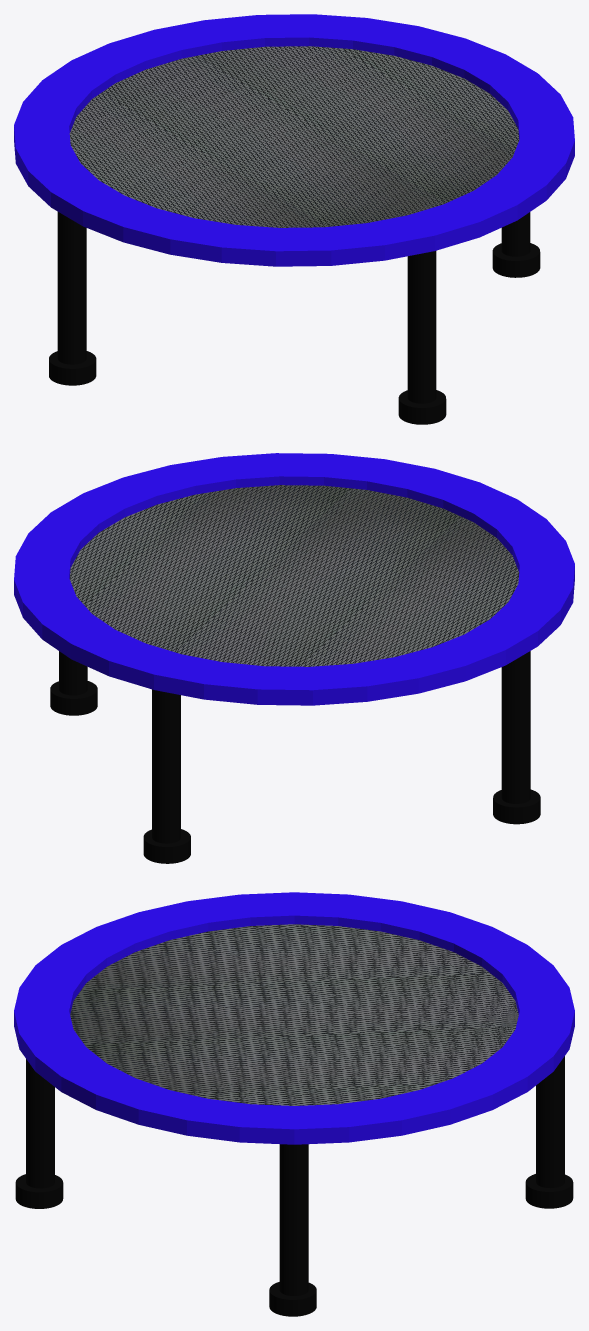
File: trampoline.fbx
The picture shows the model from 3 angles, top to bottom: view 1: azimuth 30°, elevation 25°; view 2: azimuth 150°, elevation 25°; view 3: azimuth 270°, elevation 25°; orthographic projection.
Parts seen in each view (by area): view 1: Cylinder.009, Cylinder, Cylinder.003, Cylinder.005, Cylinder.002, Cylinder.004, Cylinder.006, Cylinder.001; view 2: Cylinder.009, Cylinder, Cylinder.007, Cylinder.005, Cylinder.002, Cylinder.006, Cylinder.008, Cylinder.001; view 3: Cylinder.009, Cylinder, Cylinder.001, Cylinder.007, Cylinder.003, Cylinder.008, Cylinder.004, Cylinder.002.
Part boxes in pixels (x1,y1,x2,y2): Cylinder.009: (69,46,519,227); Cylinder: (14,14,574,266); Cylinder.003: (407,251,436,403); Cylinder.005: (57,212,86,364); Cylinder.002: (492,243,540,277); Cylinder.004: (398,390,446,424); Cylinder.006: (49,351,96,385); Cylinder.001: (501,212,530,256); Cylinder.009: (69,485,519,666); Cylinder: (14,453,574,705); Cylinder.007: (152,689,180,843); Cylinder.005: (501,651,530,803); Cylinder.002: (50,681,97,715); Cylinder.006: (493,789,540,824); Cylinder.008: (143,829,190,863); Cylinder.001: (59,651,87,695); Cylinder.009: (70,924,518,1105); Cylinder: (14,892,574,1144); Cylinder.001: (279,1144,308,1295); Cylinder.007: (536,1056,564,1187); Cylinder.003: (26,1059,54,1188); Cylinder.008: (525,1174,573,1208); Cylinder.004: (15,1174,63,1208); Cylinder.002: (269,1282,316,1316).
Size of the model in its own units: 490 by 181 by 490.
